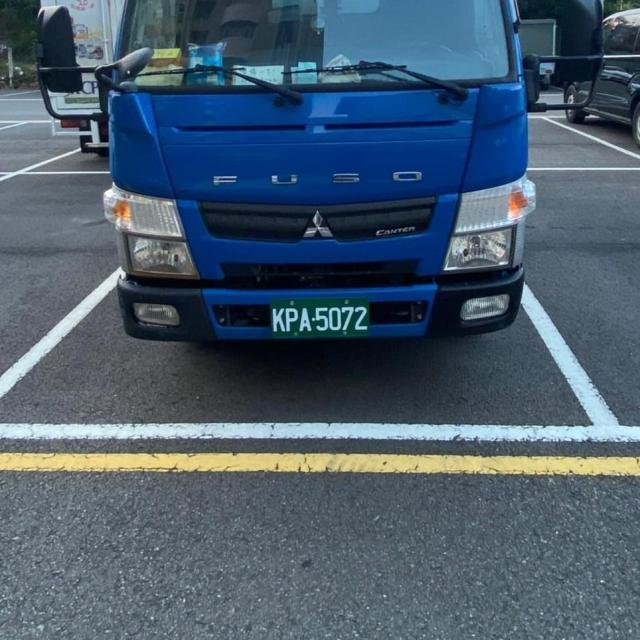GW: (268, 296, 371, 340)
